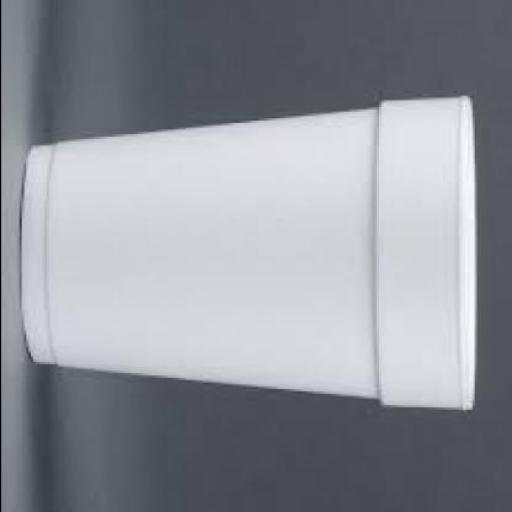paper: (18, 93, 480, 410)
